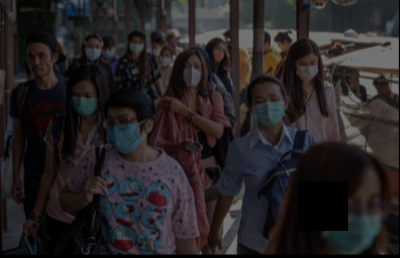with_mask: (318, 188, 383, 251), (104, 112, 143, 154), (250, 91, 285, 126), (70, 89, 97, 116), (295, 58, 318, 81), (182, 60, 201, 87), (84, 42, 101, 60), (211, 43, 224, 62), (128, 38, 142, 54), (158, 52, 171, 66), (101, 45, 114, 58), (150, 44, 160, 56)
without_mask: (26, 49, 52, 77)
